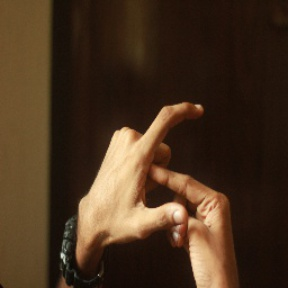E: (130, 101, 215, 241)
